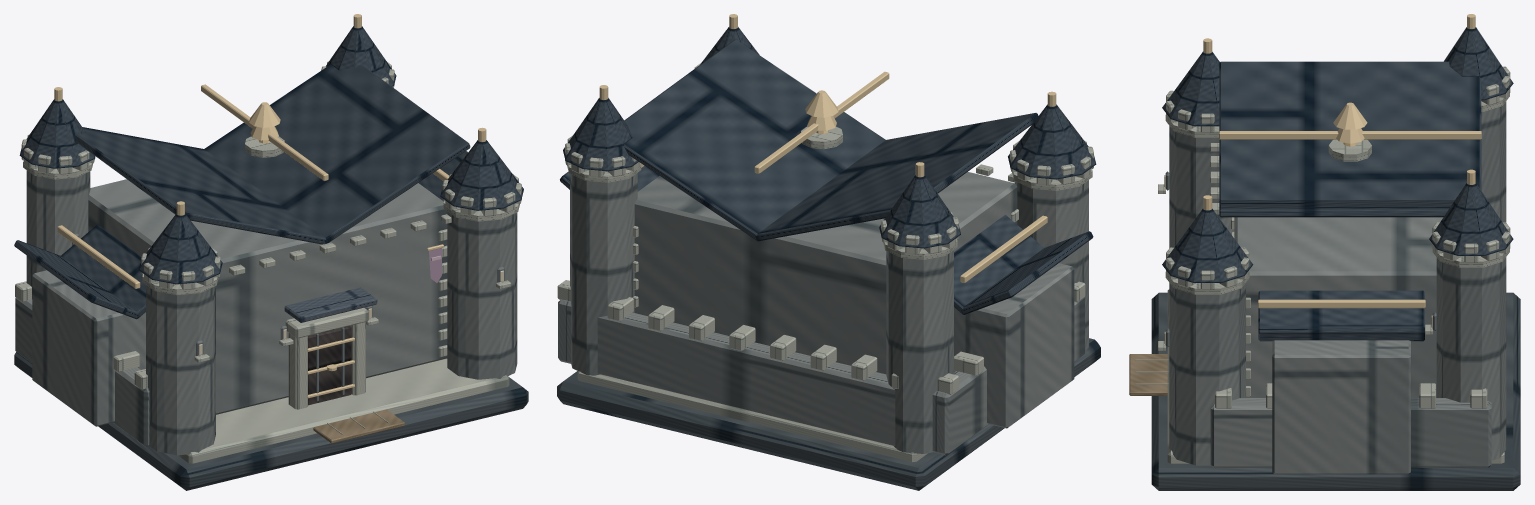
File: Bastion_05.glb
The picture shows the model from 3 angles, left to right: view 1: azimuth 30°, elevation 25°; view 2: azimuth 150°, elevation 25°; view 3: azimuth 270°, elevation 25°; orthographic projection. The views are drawn at different scales.
Visible parts, largest first — view 1: Main keep - ashlar walls.004, Keep/right.004, Keep/left.004, Western gallery.003, Octagonal masonry turret.006, Octagonal masonry turret.007, Dressed foundation.004, Rock-and-masonry plinth.004, Octagonal masonry turret.008, Hand-cut slate turret roof.007, Hand-cut slate turret roof.006, Gallery west/right.003 (+16 smaller); view 2: Main keep - ashlar walls.004, Keep/right.004, Curtain wall.003, Western gallery.003, Rock-and-masonry plinth.004, Keep/left.004, Octagonal masonry turret.008, Octagonal masonry turret.009, Octagonal masonry turret.007, Dressed foundation.004, Curtain wall.004, Gallery west/right.003 (+11 smaller); view 3: Keep/left.004, Eastern gallery.002, Main keep - ashlar walls.004, Rock-and-masonry plinth.004, Octagonal masonry turret.006, Octagonal masonry turret.009, Curtain wall.005, Gallery east/left.002, Octagonal masonry turret.007, Keep/right.004, Hand-cut slate turret roof.006, Hand-cut slate turret roof.009 (+13 smaller).
Part boxes in pixels (box(x1,y1,x2,y2)): Main keep - ashlar walls.004: box(88, 179, 447, 414); Keep/right.004: box(204, 64, 470, 243); Keep/left.004: box(75, 127, 327, 244); Western gallery.003: box(32, 270, 145, 426); Octagonal masonry turret.006: box(447, 211, 517, 379); Octagonal masonry turret.007: box(146, 285, 215, 455); Dressed foundation.004: box(178, 358, 509, 463); Rock-and-masonry plinth.004: box(14, 352, 528, 490); Octagonal masonry turret.008: box(26, 170, 90, 298); Hand-cut slate turret roof.007: box(139, 213, 222, 284); Hand-cut slate turret roof.006: box(440, 140, 523, 210); Gallery west/right.003: box(61, 224, 145, 318); Main keep - ashlar walls.004: box(634, 172, 1017, 374); Keep/right.004: box(624, 39, 885, 240); Curtain wall.003: box(597, 312, 895, 445); Western gallery.003: box(954, 263, 1074, 428); Rock-and-masonry plinth.004: box(557, 338, 1100, 490); Keep/left.004: box(755, 113, 1039, 241); Octagonal masonry turret.008: box(886, 250, 953, 453); Octagonal masonry turret.009: box(570, 173, 637, 375); Octagonal masonry turret.007: box(1015, 180, 1088, 350); Dressed foundation.004: box(577, 371, 927, 461); Curtain wall.004: box(932, 297, 1084, 455); Gallery west/right.003: box(954, 214, 1043, 314); Keep/left.004: box(1219, 61, 1481, 200); Eastern gallery.002: box(1272, 340, 1410, 474); Main keep - ashlar walls.004: box(1234, 217, 1443, 397); Rock-and-masonry plinth.004: box(1151, 292, 1520, 490); Octagonal masonry turret.006: box(1169, 283, 1245, 465); Octagonal masonry turret.009: box(1436, 257, 1506, 460); Curtain wall.005: box(1210, 398, 1491, 467); Gallery east/left.002: box(1258, 290, 1424, 327); Octagonal masonry turret.007: box(1169, 126, 1234, 247); Keep/right.004: box(1219, 200, 1454, 217); Hand-cut slate turret roof.006: box(1162, 208, 1253, 282); Hand-cut slate turret roof.009: box(1429, 183, 1513, 255).
Size of the model in its own units: 14.12 by 9.12 by 10.45.
Materials: 17 (10 with a texture image).
